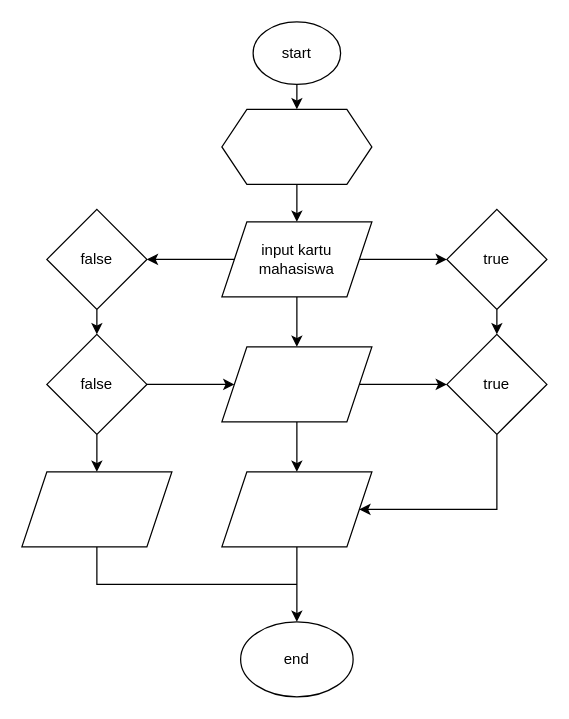
This 569x719 diagram has some shape labels left out. The centre of each missing label's shape, as x and y in pixels:
boolean kartu mahasiswa, registrasi online: the point at 296,146
input registrasi online: the point at 296,384
print boleh masuk: the point at 296,509
print ditolak masuk: the point at 96,509
